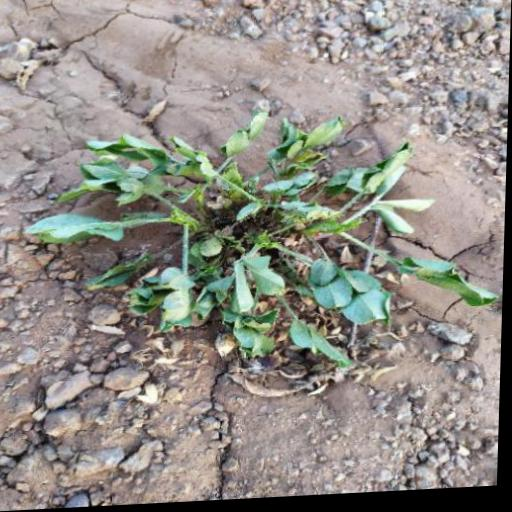weed: (22, 91, 501, 377)
